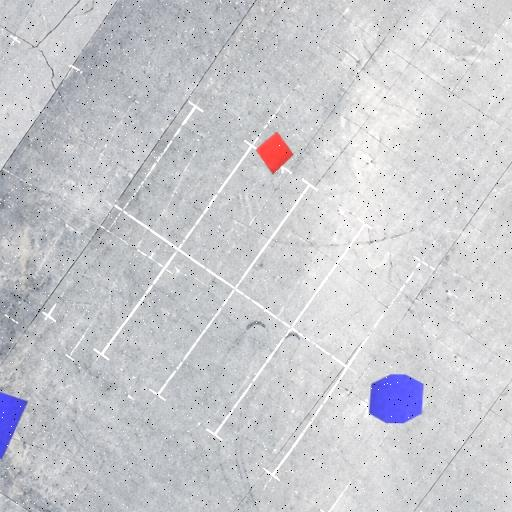BLUE_SQUARE: (0, 382, 28, 460)
RED_SQUARE: (256, 131, 294, 175)
